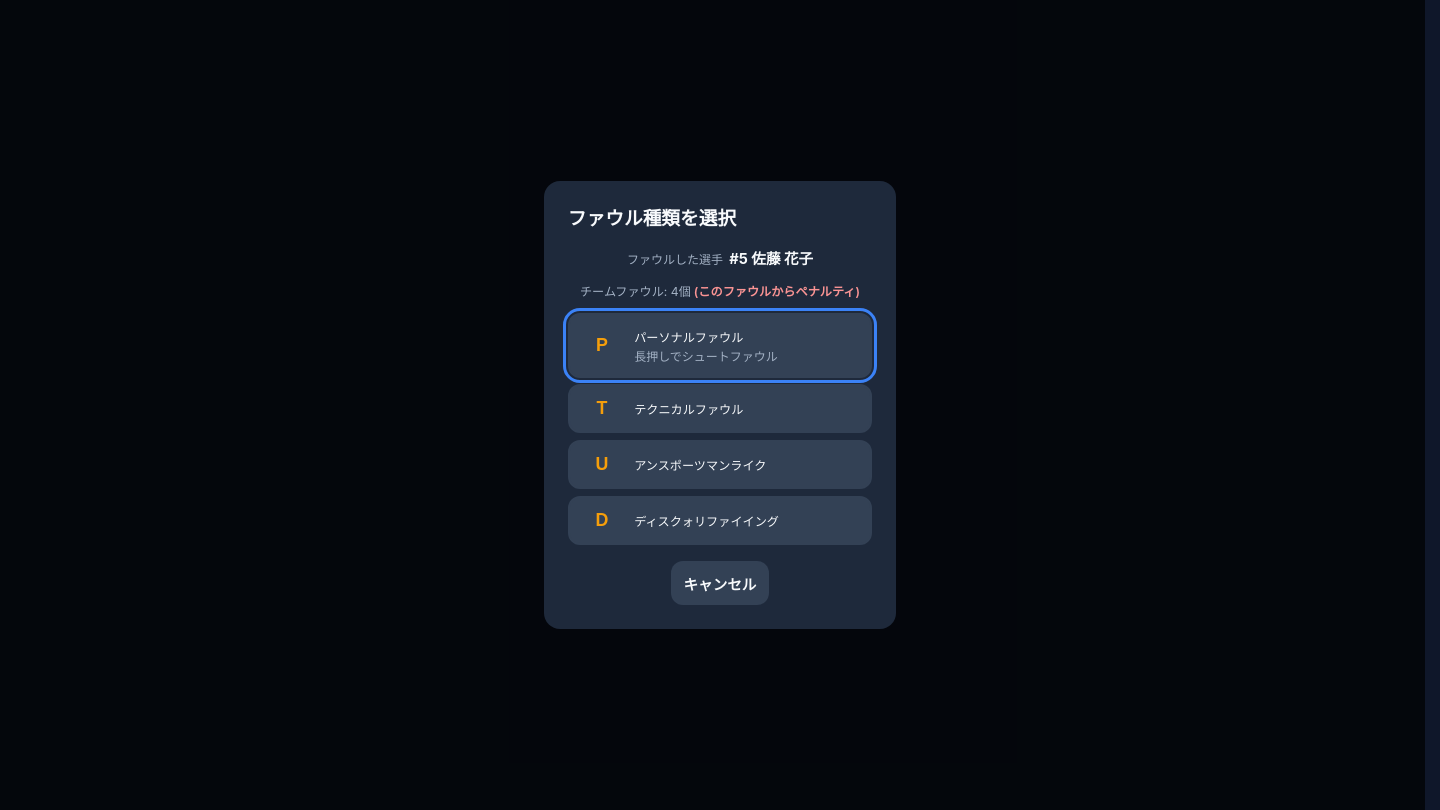
Test: ステップ切り替え後のフォーカス › シューター選択 → FT結果入力（次へ）で残る
Press Enter in the button "P パーソナルファウル 長押しでシュートファウル", box [568, 314, 872, 378]
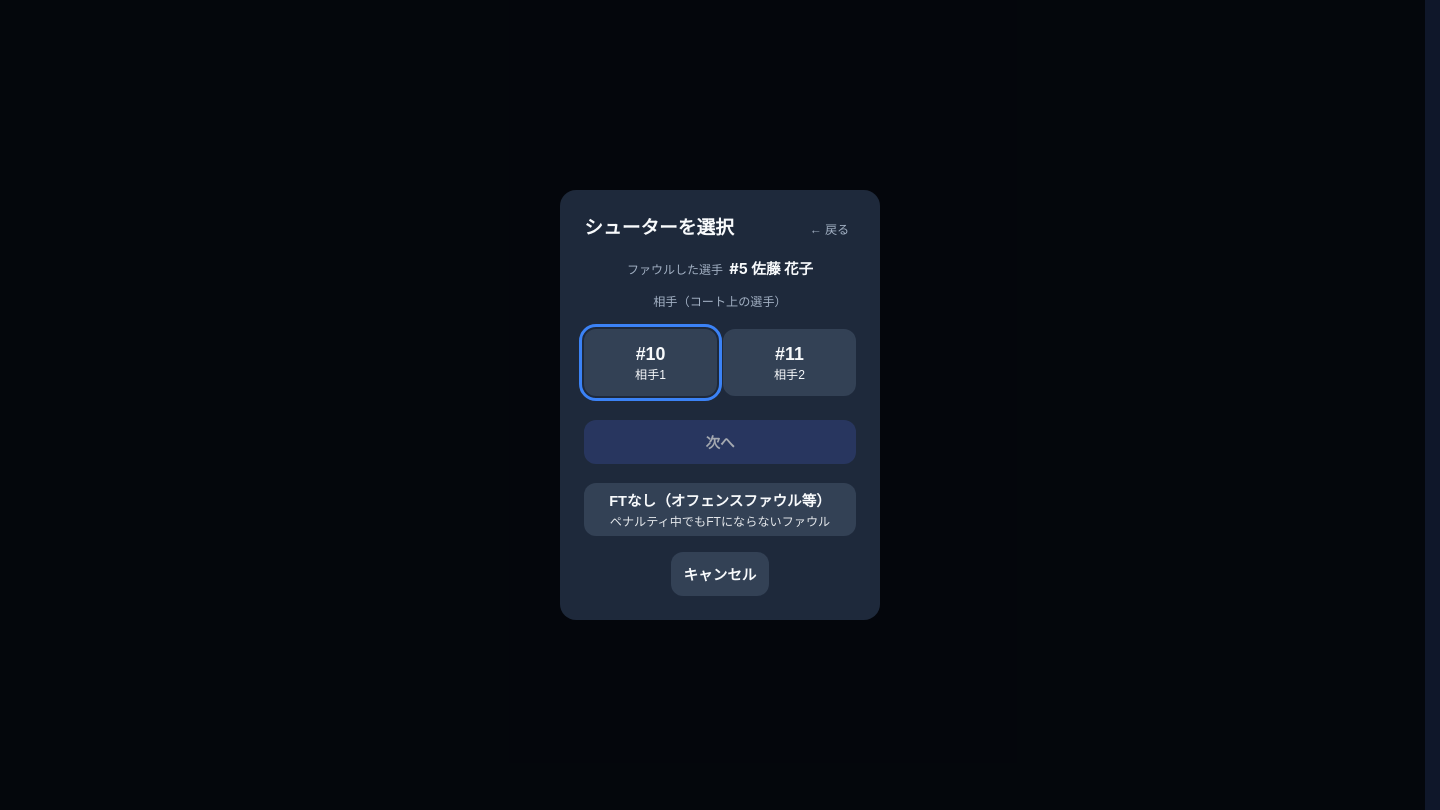
Click the button "#10 相手1" at (651,363), box [584, 329, 717, 396]
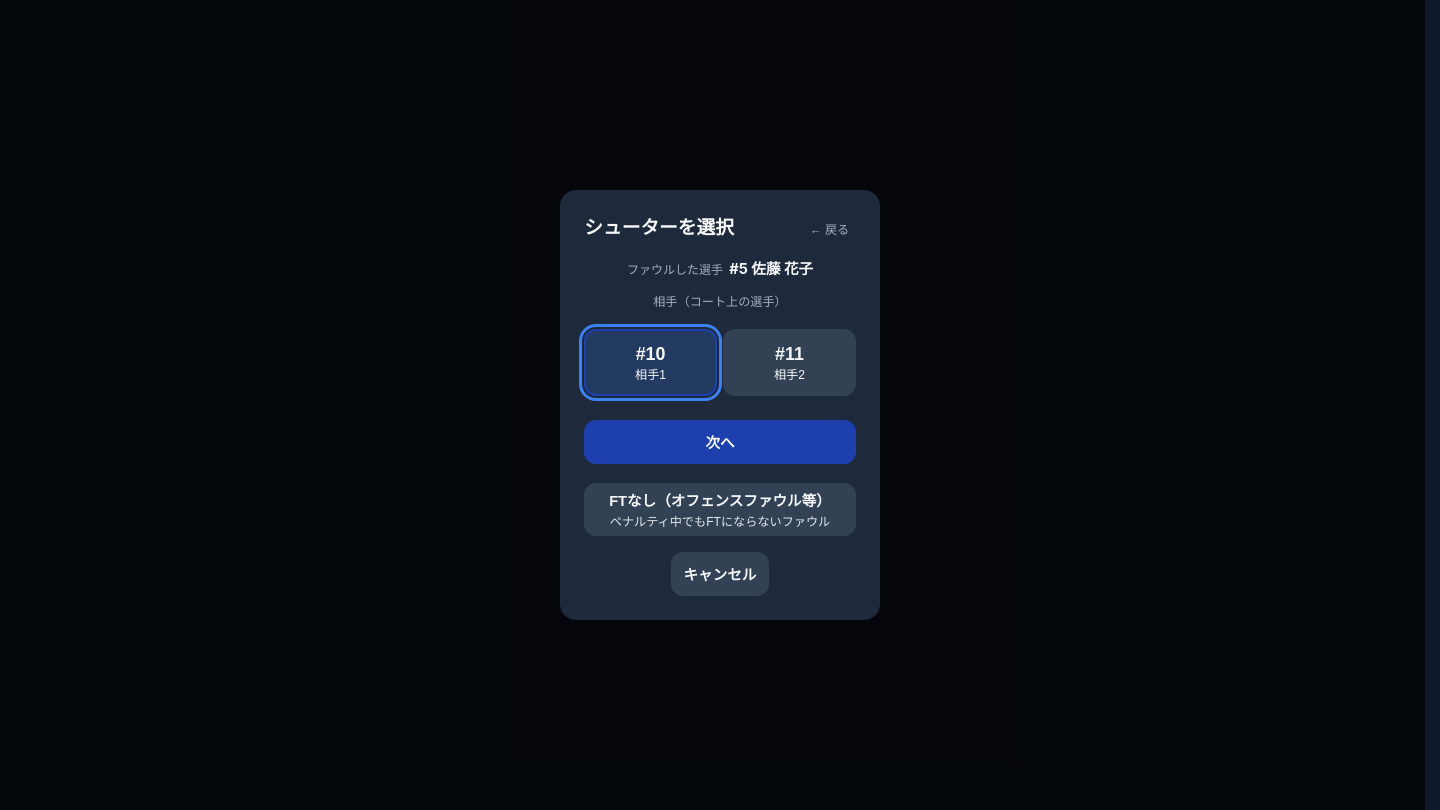
Click the button "次へ" at (720,442), box [584, 420, 856, 464]
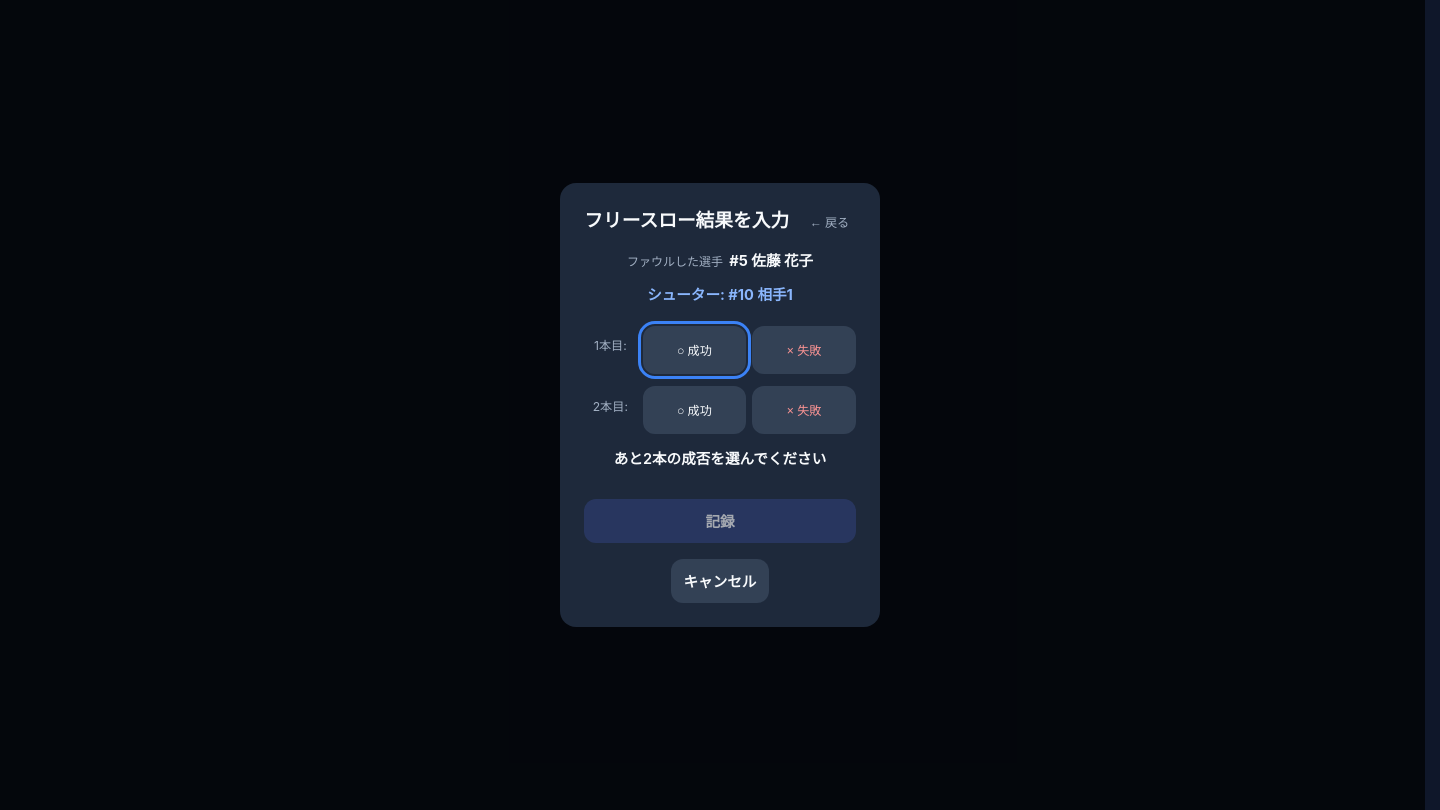
Expected: the heading "フリースロー結果を入力" is shown, [584, 207, 789, 235]
